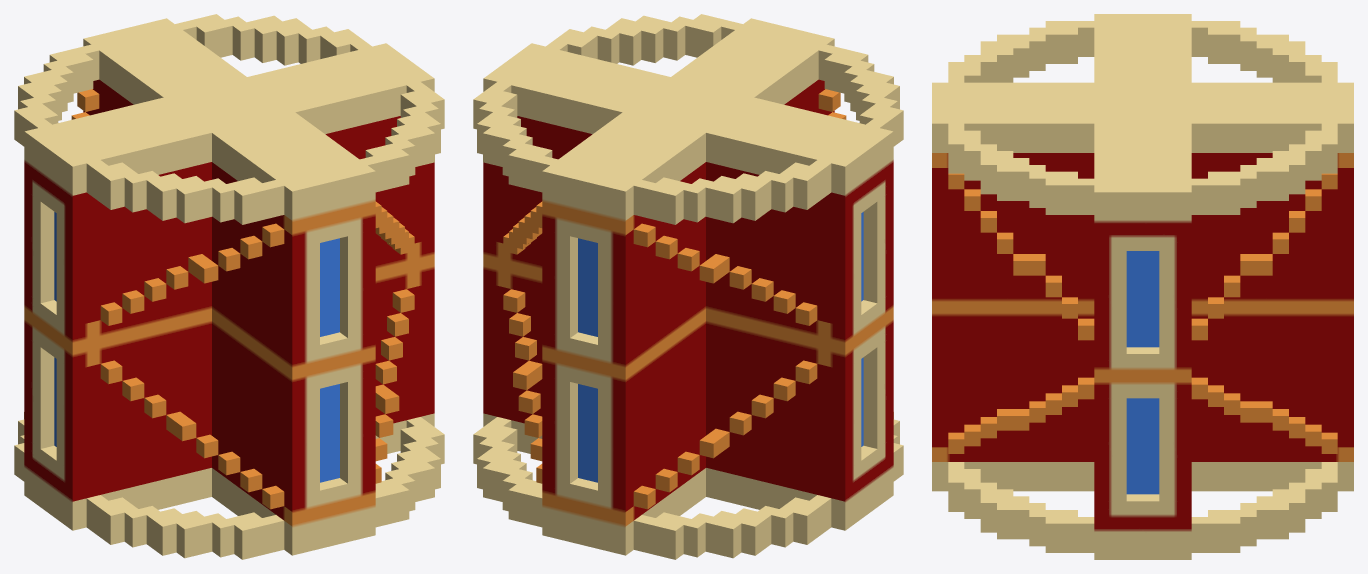
File: fifthModel(red).fbx
The picture shows the model from 3 angles, left to right: view 1: azimuth 30°, elevation 25°; view 2: azimuth 150°, elevation 25°; view 3: azimuth 270°, elevation 25°; orthographic projection.
Parts seen in each view (by area): view 1: Torus; view 2: Torus; view 3: Torus.
Boxes of the visible parts, x1,y1,x2,y2 form: Torus: [14, 14, 444, 559]; Torus: [473, 14, 903, 559]; Torus: [932, 14, 1353, 559].
Size of the model in its own units: 26 by 25 by 26.
1 material, 1 textured.
